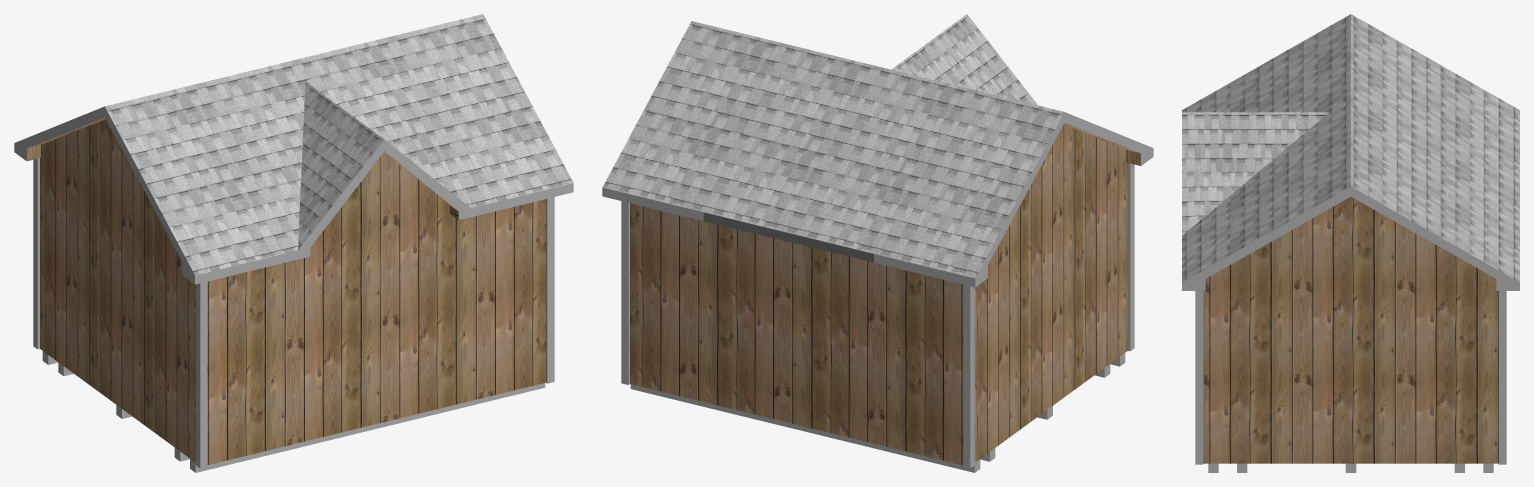
Rendered from Victorian Shed_10x12.obj.
3 views of the same model, side by side, from view 1: azimuth 30°, elevation 25°; view 2: azimuth 150°, elevation 25°; view 3: azimuth 270°, elevation 25° (orthographic). The views are drawn at different scales.
Visible parts, largest first — view 1: Shed, Roof, Sides, Trim, Floor; view 2: Shed, Roof, Sides, Trim, Floor; view 3: Shed, Roof, Sides, Trim, Floor.
Boxes of the visible parts, left/top/right/bottom form: Shed: left=27, top=117, right=545, bottom=465; Roof: left=105, top=14, right=573, bottom=275; Sides: left=14, top=106, right=573, bottom=284; Trim: left=33, top=158, right=554, bottom=468; Floor: left=42, top=351, right=545, bottom=472; Shed: left=630, top=123, right=1140, bottom=465; Roof: left=602, top=14, right=1063, bottom=278; Sides: left=602, top=112, right=1153, bottom=287; Trim: left=621, top=163, right=1134, bottom=468; Floor: left=630, top=353, right=1125, bottom=472; Shed: left=1203, top=197, right=1498, bottom=463; Roof: left=1182, top=14, right=1519, bottom=282; Sides: left=1182, top=186, right=1519, bottom=290; Trim: left=1195, top=291, right=1506, bottom=464; Floor: left=1208, top=463, right=1493, bottom=472.
Bounding box in the file's own units: 3.96 × 3.14 × 3.28.
